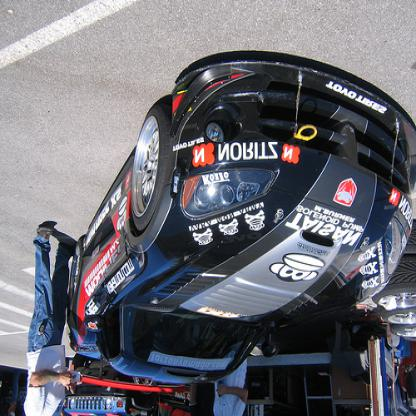car: (68, 54, 416, 395), (65, 354, 192, 416)
person: (24, 227, 83, 416), (213, 356, 250, 416)
